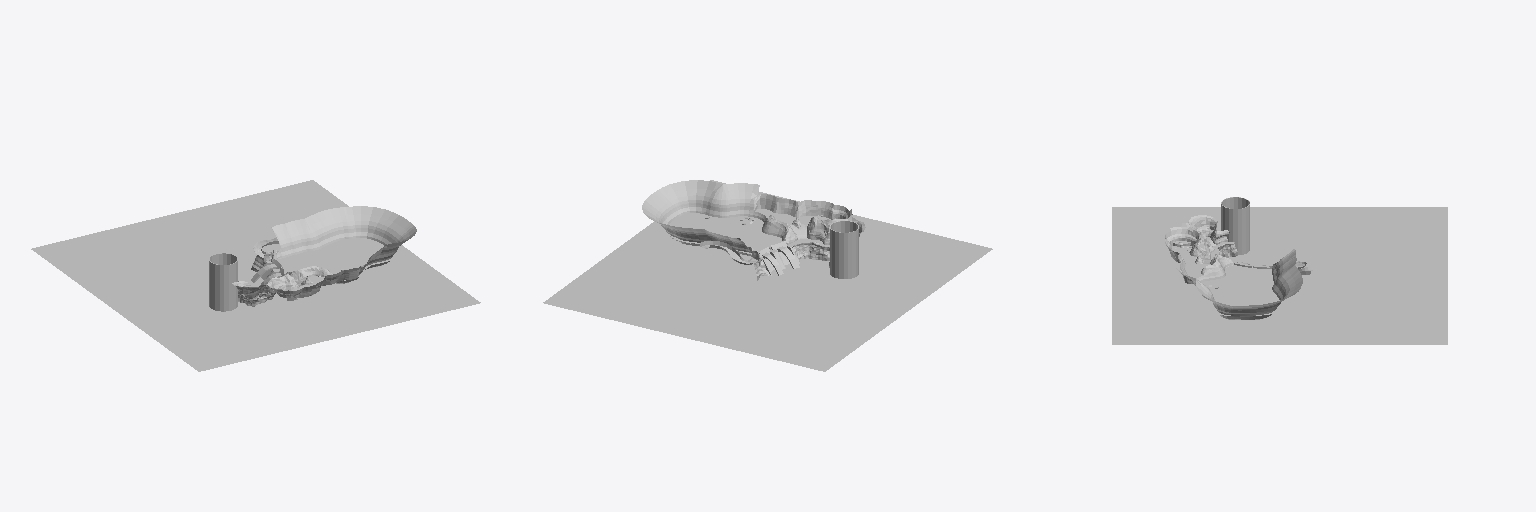
File: IceWorldPAST.obj
3 views of the same model, side by side, from view 1: azimuth 30°, elevation 25°; view 2: azimuth 150°, elevation 25°; view 3: azimuth 270°, elevation 25° (orthographic).
Visible parts, largest first — view 1: Terrain oceanLayer, Terrain, damWater, Terrain tempTower4; view 2: Terrain oceanLayer, Terrain, damWater, Terrain tempTower4; view 3: Terrain oceanLayer, Terrain, damWater, Terrain tempTower4.
Part boxes in pixels (x1,y1,x2,y2): Terrain oceanLayer: (31,180,480,371); Terrain: (232,206,416,306); damWater: (278,238,397,280); Terrain tempTower4: (209,253,237,311); Terrain oceanLayer: (543,180,992,371); Terrain: (642,180,865,280); damWater: (663,213,781,254); Terrain tempTower4: (830,221,858,278); Terrain oceanLayer: (1112,207,1447,344); Terrain: (1165,215,1312,319); damWater: (1195,265,1282,315); Terrain tempTower4: (1221,197,1249,255).
Bounding box in the file's own units: 383 × 67.87 × 395.